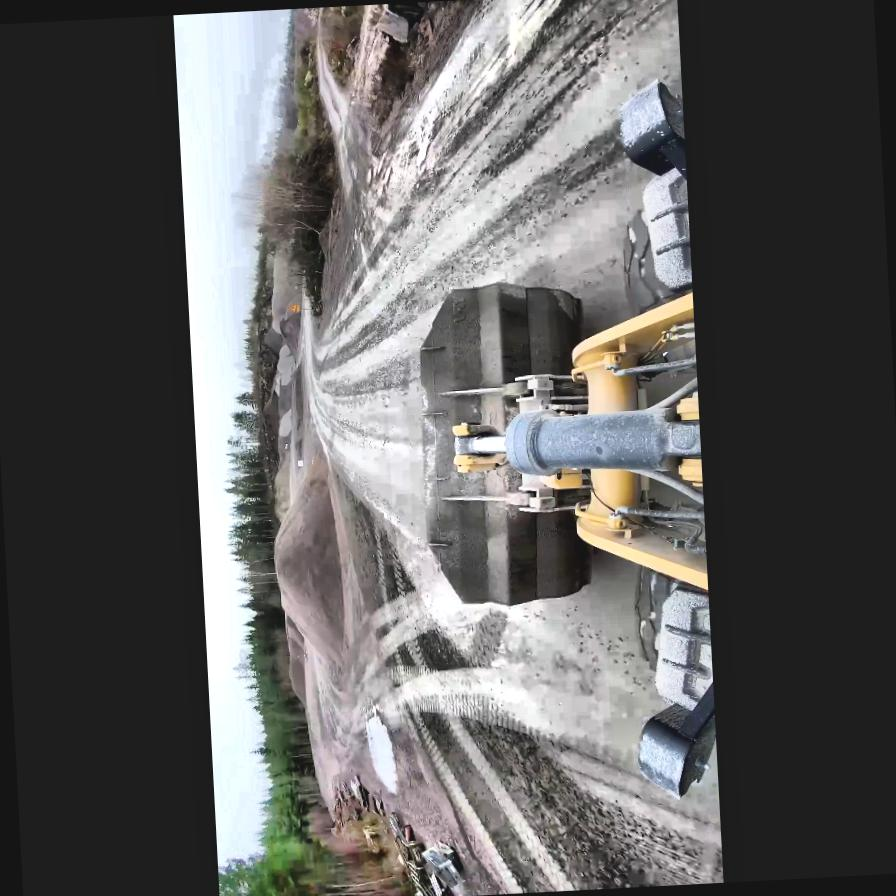anchor: (451, 420, 507, 472)
pile of gravel: (266, 440, 350, 668), (267, 247, 304, 342), (284, 616, 308, 706)
